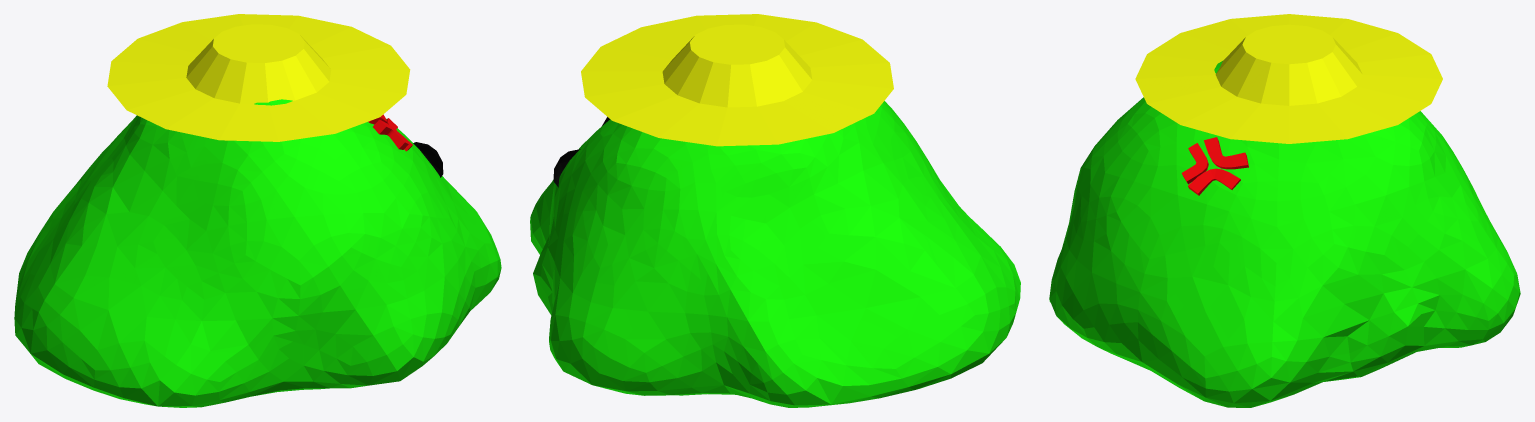
File: SlimefarmHat0.fbx
3 views of the same model, side by side, from view 1: azimuth 30°, elevation 25°; view 2: azimuth 150°, elevation 25°; view 3: azimuth 270°, elevation 25° (orthographic). The views are drawn at different scales.
Parts seen in each view (by area): view 1: SLIME; view 2: SLIME; view 3: SLIME.
Part boxes in pixels (bbox=[...]): SLIME: bbox=[14, 14, 501, 407]; SLIME: bbox=[530, 14, 1020, 407]; SLIME: bbox=[1049, 14, 1520, 407].
Bounding box in the file's own units: 111 × 66.03 × 100.
